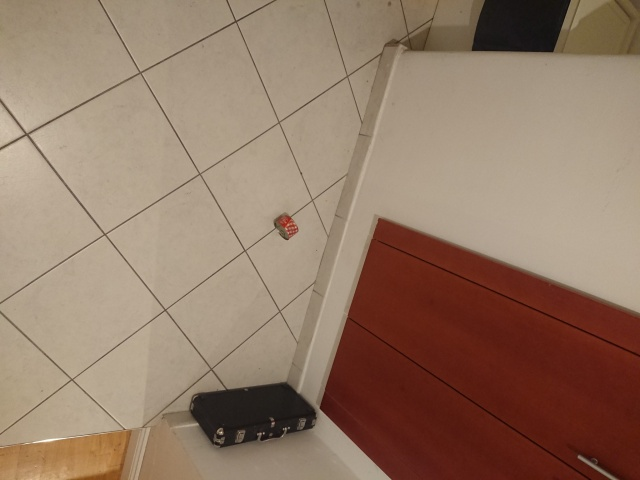Podravka Luncheon Meat 150g: (272, 211, 300, 242)
